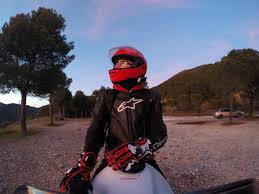helmet: (104, 43, 149, 81)
